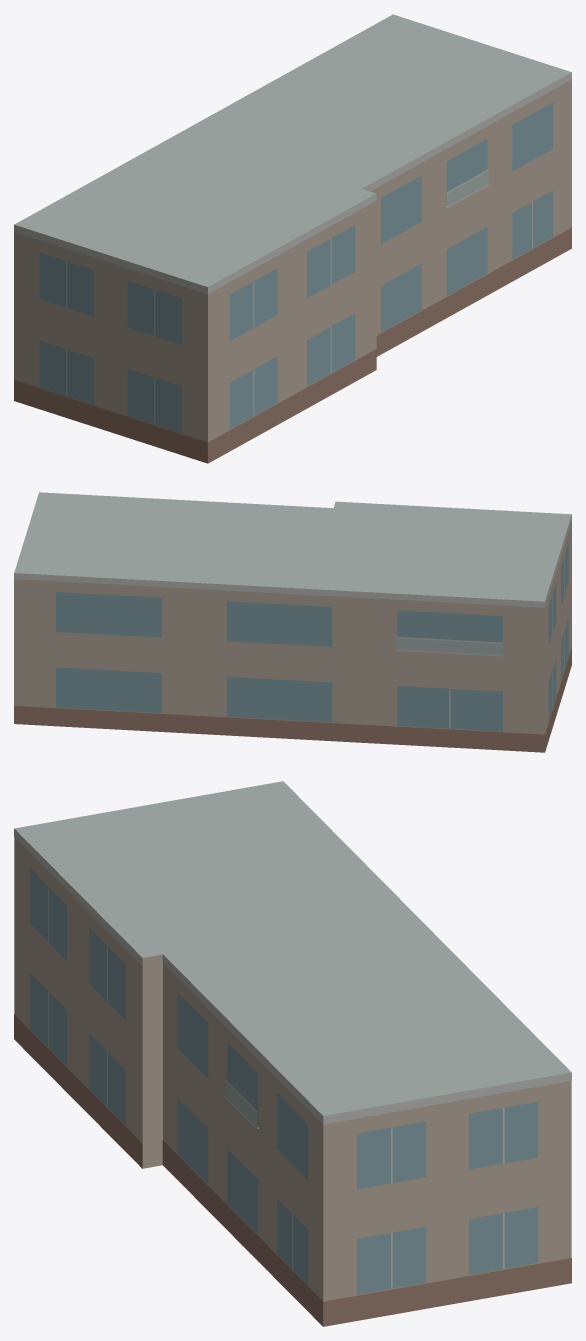
Rendered from survey-upis-32774222.glb.
3 renders of one model, top to bottom at view 1: azimuth 30°, elevation 25°; view 2: azimuth 150°, elevation 25°; view 3: azimuth 270°, elevation 25°, orthographic. The views are drawn at different scales.
Visible parts, largest first — view 1: survey-upis-32774222.tmp; view 2: survey-upis-32774222.tmp; view 3: survey-upis-32774222.tmp.
Boxes of the visible parts, x1=… form: survey-upis-32774222.tmp: x1=14, y1=14, x2=571, y2=463; survey-upis-32774222.tmp: x1=14, y1=492, x2=571, y2=752; survey-upis-32774222.tmp: x1=14, y1=781, x2=571, y2=1326.
Size of the model in its own units: 20.8 by 6.1 by 14.64.
